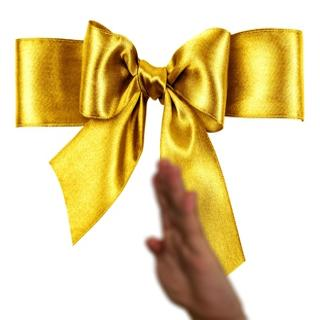RIGHT: (143, 154, 245, 320)
